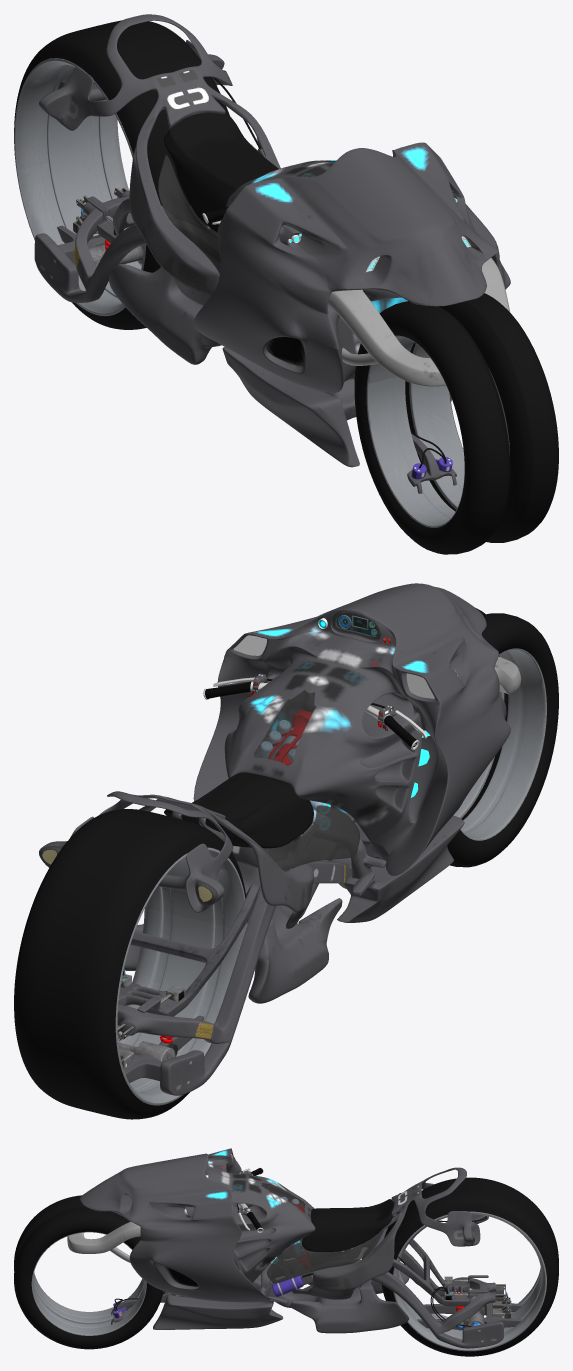
Rendered from motot-c.glb.
The picture shows the model from 3 angles, top to bottom: view 1: azimuth 30°, elevation 25°; view 2: azimuth 150°, elevation 25°; view 3: azimuth 270°, elevation 25°; orthographic projection. The views are drawn at different scales.
Parts seen in each view (by area): view 1: Cube.028_cor_base02.004_0, Cube.001_Pneu_0, Cube.004_roda_0, Cube.002_cor_base02_0, NurbsPath.002_DefaultMaterial.001_0, Cube.021_cor_base02.003_0, Cube.007_metal02.002_0, Cube.030_metal02.003_0, Cube.014_vidro_0, Cube.022_DefaultMaterial_0, Cube.009_Cromo_0; view 2: Cube.028_cor_base02.004_0, Cube.001_Pneu_0, Cube.004_roda_0, Cube.002_cor_base02_0, Cube.021_cor_base02.003_0, Cube.007_metal02.002_0, Cube.014_vidro_0, NurbsPath.002_DefaultMaterial.001_0, Cube.027_Cromo.004_0, Cube.009_Cromo_0, Cube.023_espelho_0, Cube.011_borracha.001_0 (+2 smaller); view 3: Cube.028_cor_base02.004_0, Cube.001_Pneu_0, Cube.002_cor_base02_0, Cube.021_cor_base02.003_0, Cube.004_roda_0, Cube.007_metal02.002_0, NurbsPath.002_DefaultMaterial.001_0, Cube.014_vidro_0, Cube.030_metal02.003_0, Cube.009_Cromo_0, Cube.022_DefaultMaterial_0.
Part boxes in pixels (bbox=[...]): Cube.028_cor_base02.004_0: bbox=[193, 142, 510, 392]; Cube.001_Pneu_0: bbox=[14, 20, 558, 554]; Cube.004_roda_0: bbox=[14, 58, 509, 527]; Cube.002_cor_base02_0: bbox=[39, 14, 451, 467]; NurbsPath.002_DefaultMaterial.001_0: bbox=[164, 77, 446, 468]; Cube.021_cor_base02.003_0: bbox=[86, 196, 221, 364]; Cube.007_metal02.002_0: bbox=[34, 190, 356, 420]; Cube.030_metal02.003_0: bbox=[327, 258, 510, 386]; Cube.014_vidro_0: bbox=[42, 92, 314, 274]; Cube.022_DefaultMaterial_0: bbox=[407, 433, 456, 493]; Cube.009_Cromo_0: bbox=[73, 187, 144, 267]; Cube.028_cor_base02.004_0: bbox=[193, 583, 510, 875]; Cube.001_Pneu_0: bbox=[14, 608, 558, 1119]; Cube.004_roda_0: bbox=[115, 648, 546, 1105]; Cube.002_cor_base02_0: bbox=[39, 791, 464, 928]; Cube.021_cor_base02.003_0: bbox=[118, 859, 342, 1016]; Cube.007_metal02.002_0: bbox=[117, 858, 351, 1095]; Cube.014_vidro_0: bbox=[39, 612, 380, 905]; NurbsPath.002_DefaultMaterial.001_0: bbox=[122, 678, 385, 975]; Cube.027_Cromo.004_0: bbox=[257, 709, 330, 824]; Cube.009_Cromo_0: bbox=[117, 974, 184, 1068]; Cube.023_espelho_0: bbox=[233, 635, 434, 698]; Cube.011_borracha.001_0: bbox=[205, 682, 416, 747]; Cube.028_cor_base02.004_0: bbox=[80, 1148, 315, 1302]; Cube.001_Pneu_0: bbox=[14, 1177, 558, 1356]; Cube.002_cor_base02_0: bbox=[153, 1167, 488, 1329]; Cube.021_cor_base02.003_0: bbox=[252, 1227, 488, 1333]; Cube.004_roda_0: bbox=[31, 1211, 546, 1351]; Cube.007_metal02.002_0: bbox=[258, 1240, 522, 1348]; NurbsPath.002_DefaultMaterial.001_0: bbox=[114, 1199, 486, 1326]; Cube.014_vidro_0: bbox=[261, 1183, 474, 1283]; Cube.030_metal02.003_0: bbox=[67, 1221, 140, 1262]; Cube.009_Cromo_0: bbox=[444, 1276, 511, 1330]; Cube.022_DefaultMaterial_0: bbox=[111, 1275, 462, 1324].
Bounding box in the file's own units: 27813 × 37079 × 95435.
32 materials, 24 textured.
